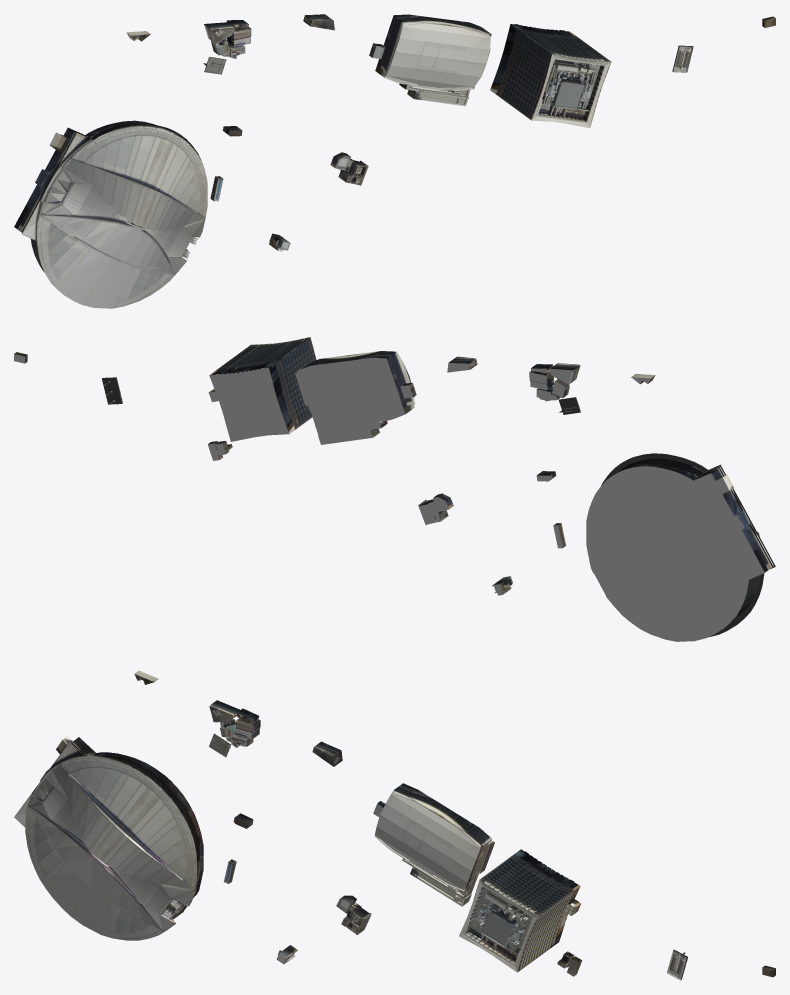
The model's file is 533945173_bldg_6677.obj.
3 views of the same model, one above another, from view 1: azimuth 30°, elevation 25°; view 2: azimuth 150°, elevation 25°; view 3: azimuth 330°, elevation 25° (orthographic).
Size of the model in its own units: 522 by 173 by 55.16.
Materials: 22 (22 with a texture image).
